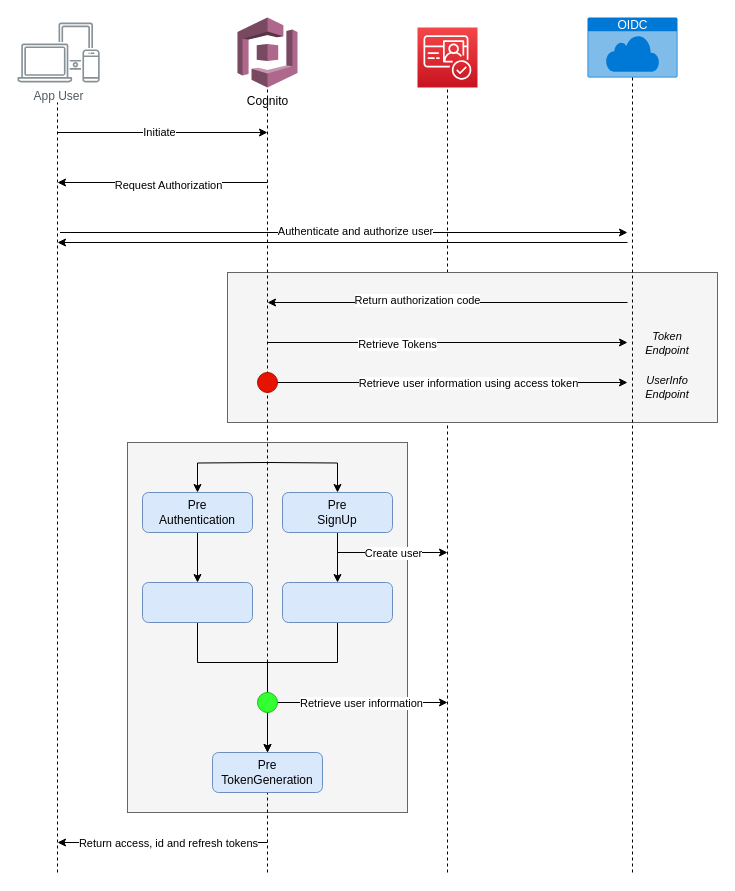
Image size: 735x891. Some labels were removed from this diagram. Each missing label, with the centre of its shape:
"Post Authentication" belongs at [197,602].
"Post Confirmation" belongs at [337,602].
"Userpool" belongs at [447,57].
